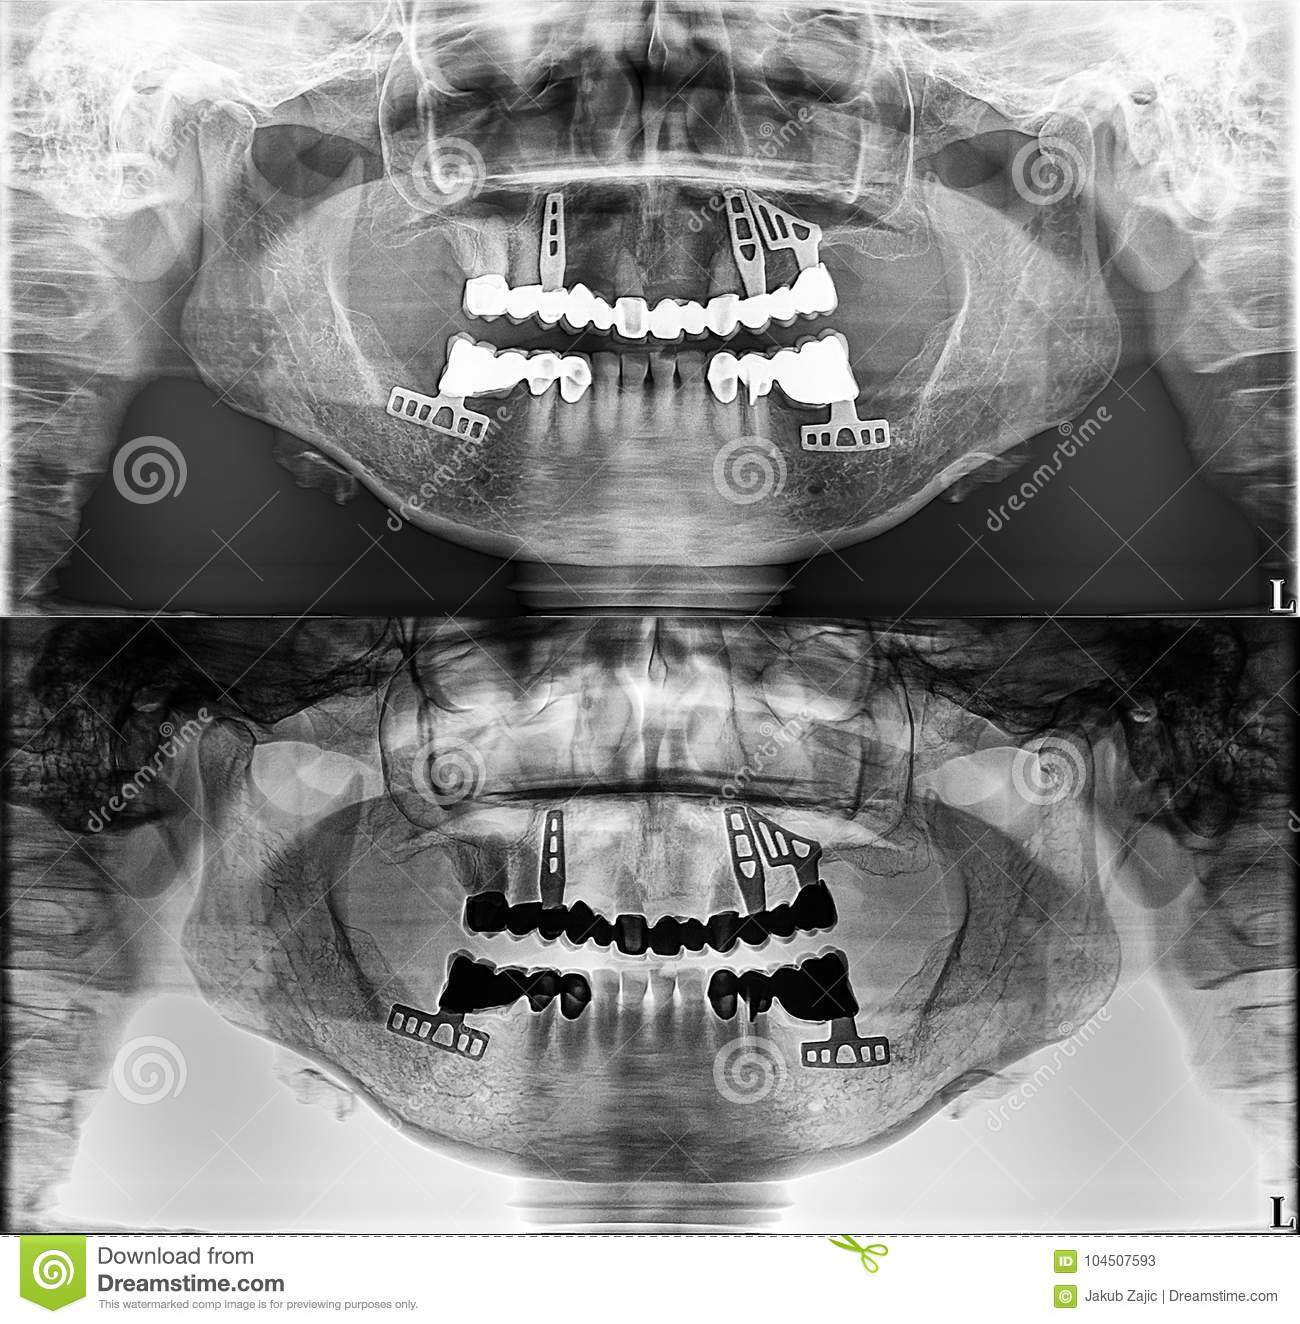incisor: (669, 341, 714, 437), (615, 346, 660, 438), (580, 344, 620, 442), (644, 964, 679, 1039), (650, 335, 679, 424), (679, 967, 707, 1041), (594, 966, 620, 1041), (624, 963, 646, 1035)
